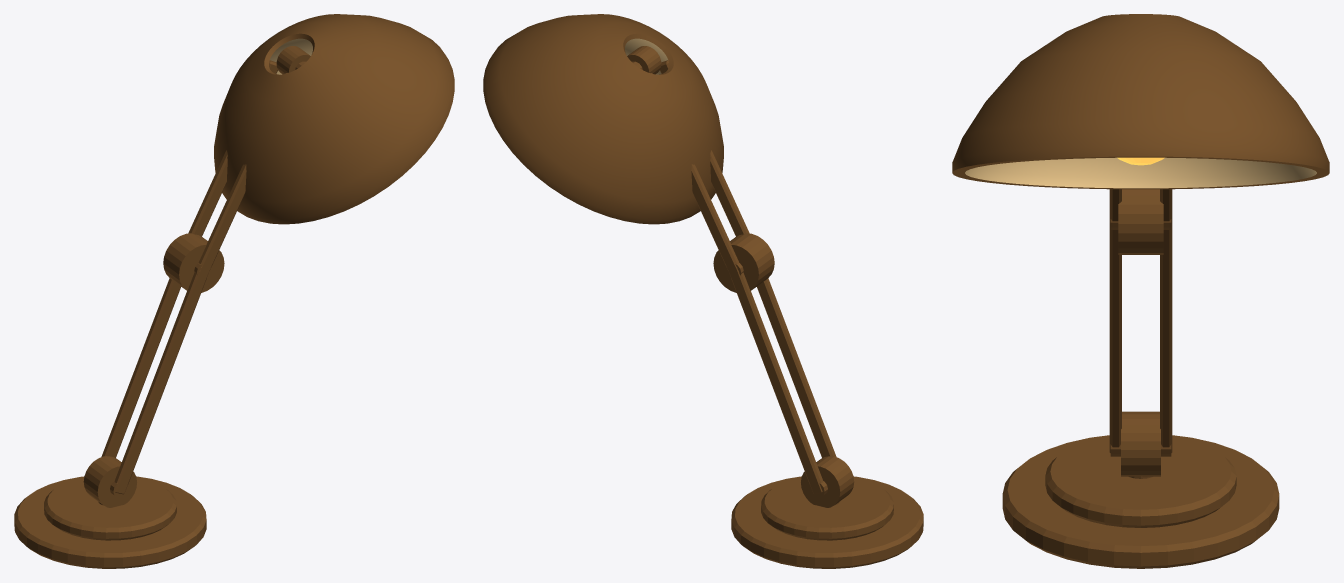
Rendered from desk-lamp-v01.glb.
The picture shows the model from 3 angles, left to right: view 1: azimuth 30°, elevation 25°; view 2: azimuth 150°, elevation 25°; view 3: azimuth 270°, elevation 25°; orthographic projection. The views are drawn at different scales.
Visible parts, largest first — view 1: SM_lamp_shade, SM_lamp_base, SM_lamp_arm; view 2: SM_lamp_shade, SM_lamp_base, SM_lamp_arm; view 3: SM_lamp_shade, SM_lamp_base, SM_lamp_arm.
Boxes of the visible parts, x1=… form: SM_lamp_shade: x1=214, y1=14, x2=454, y2=224; SM_lamp_base: x1=14, y1=456, x2=206, y2=568; SM_lamp_arm: x1=101, y1=46, x2=310, y2=497; SM_lamp_shade: x1=483, y1=14, x2=723, y2=224; SM_lamp_base: x1=731, y1=456, x2=923, y2=568; SM_lamp_arm: x1=627, y1=46, x2=836, y2=497; SM_lamp_shade: x1=952, y1=14, x2=1329, y2=189; SM_lamp_base: x1=1002, y1=411, x2=1279, y2=568; SM_lamp_arm: x1=1109, y1=189, x2=1172, y2=456.
Bounding box in the file's own units: 2.69 × 2.82 × 1.5.
